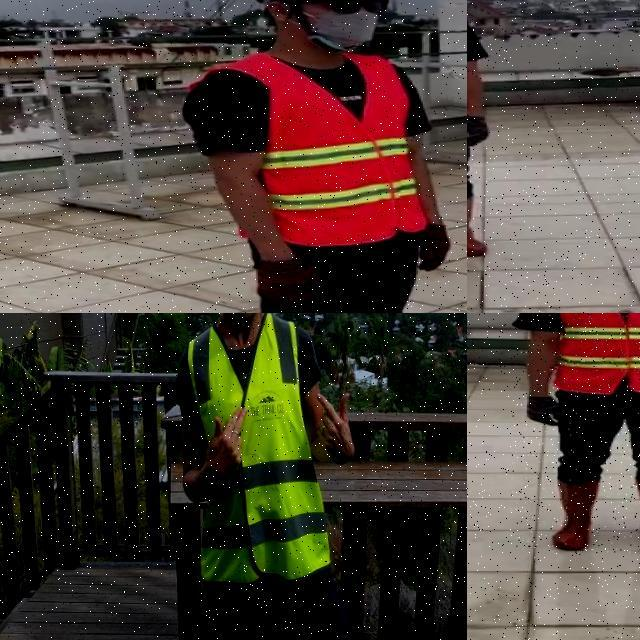boots: (546, 478, 604, 552), (467, 194, 490, 256)
vest: (246, 51, 427, 249), (196, 313, 323, 587), (546, 313, 640, 399)
